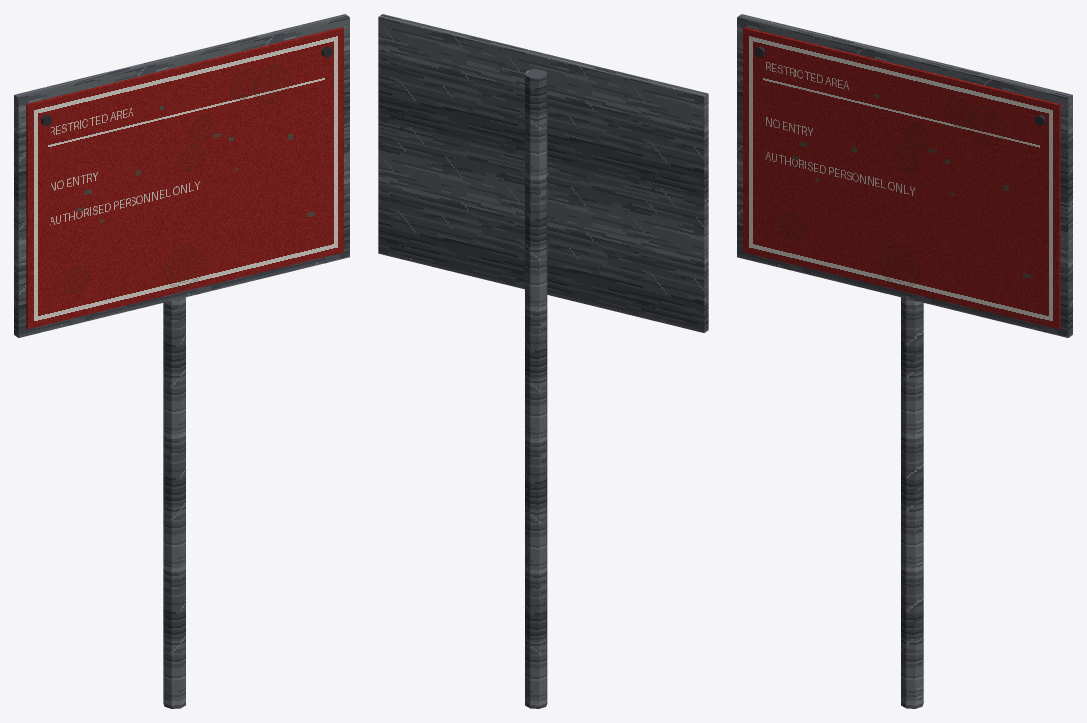
File: DST_Sign_Restricted.glb
3 views of the same model, side by side, from view 1: azimuth 30°, elevation 25°; view 2: azimuth 150°, elevation 25°; view 3: azimuth 330°, elevation 25° (orthographic).
Visible parts, largest first — view 1: Face, Backing, Post; view 2: Backing, Post; view 3: Face, Backing, Post.
Part boxes in pixels (x1,y1,x2,y2): Face: (26,27,343,329); Backing: (14,14,349,337); Post: (163,297,185,708); Backing: (378,14,708,332); Post: (525,69,547,708); Face: (743,27,1060,329); Backing: (737,14,1072,337); Post: (901,297,923,708).
Size of the model in its own units: 1.3 by 2.45 by 0.13.
Materials: 3 (2 with a texture image).
